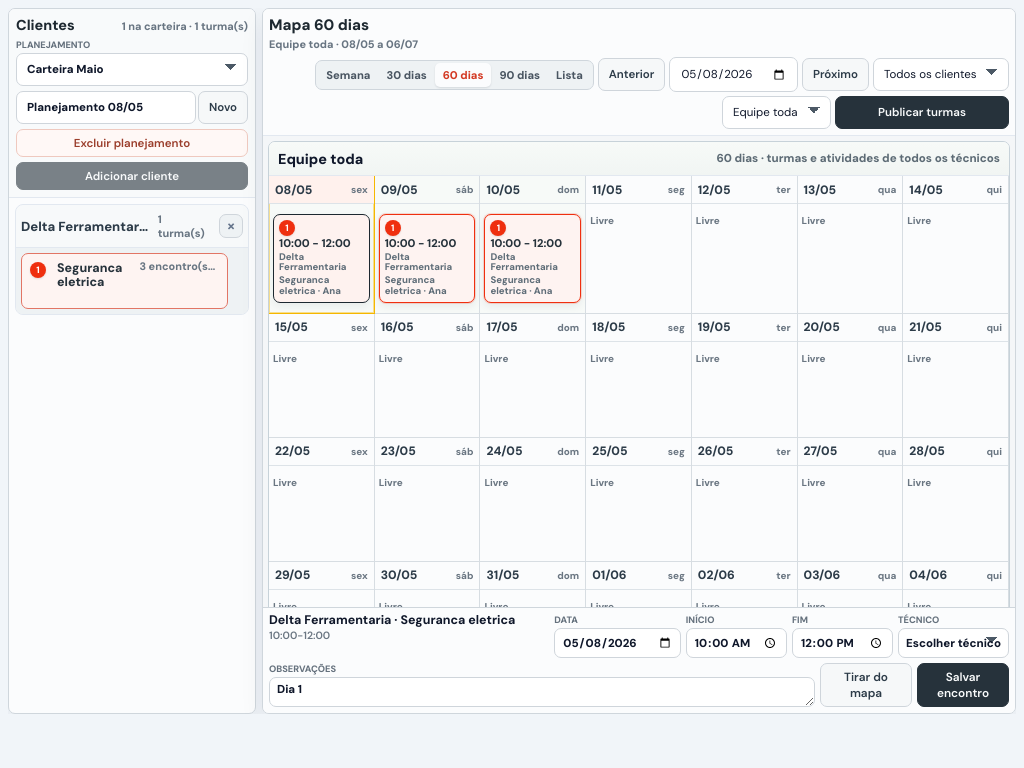
Test: PlanningPage › opens publish confirmation and blocks incomplete cohorts
Click the button "Publicar turmas". click: (922, 112)
box: [835,96,1009,129]
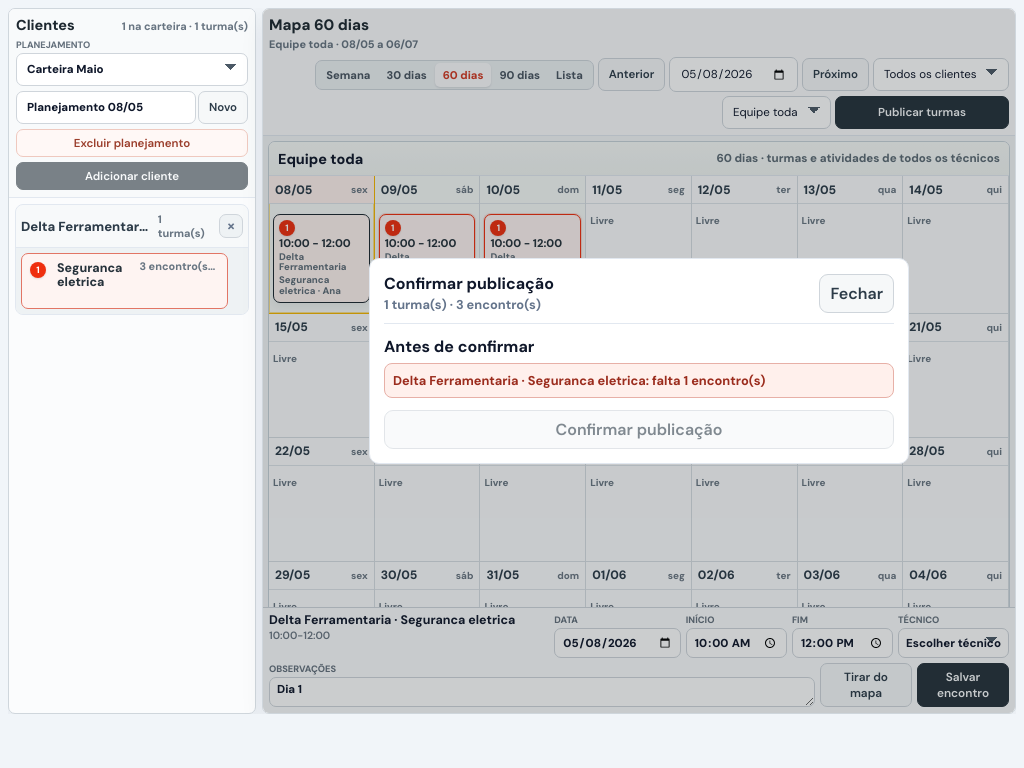
Check: the dialog named "Confirmar publicação do planejamento" is shown
Check: the button "Confirmar publicação" is disabled, box [384,410,894,449]
